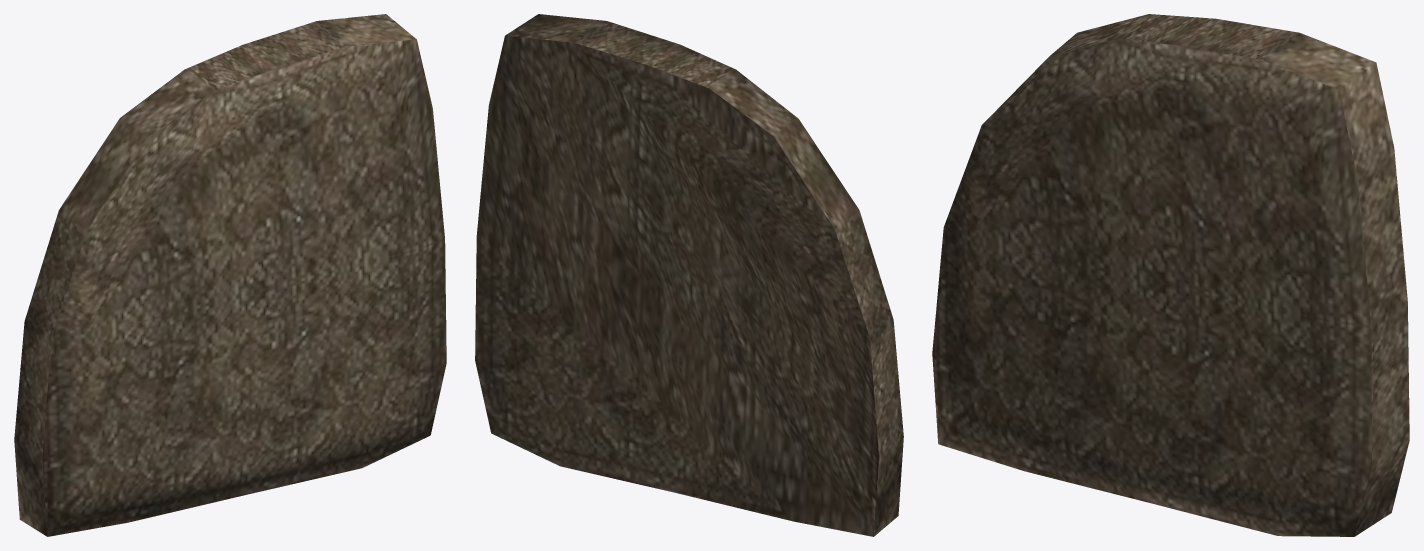
The model's file is furniture_duhoc_couch_cushion2.glb.
3 views of the same model, side by side, from view 1: azimuth 30°, elevation 25°; view 2: azimuth 150°, elevation 25°; view 3: azimuth 330°, elevation 25° (orthographic). The views are drawn at different scales.
Size of the model in its own units: 26.85 by 27.24 by 4.18.
Materials: 1 (1 with a texture image).
